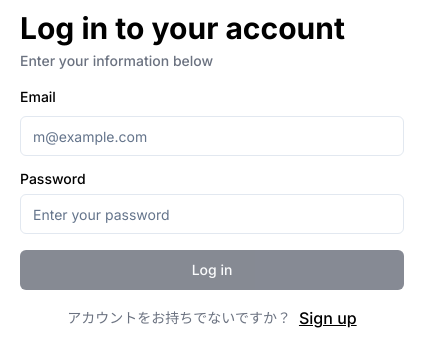
Test: LoginView › 入力後、ログインボタンが活性化すること
The width and height of the screenshot is (425, 345).
Step 1. Type "a" into the field labelled "Email" → (212, 136), box [20,116,404,156]
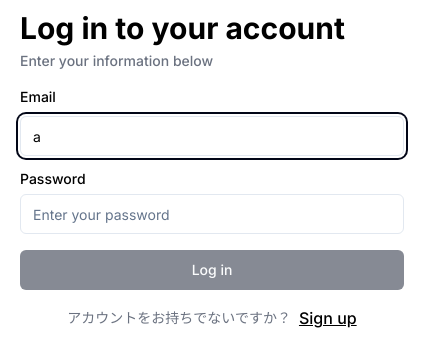
Step 2. Type "a" into the password field labelled "Password" → (212, 214), box [20,194,404,234]
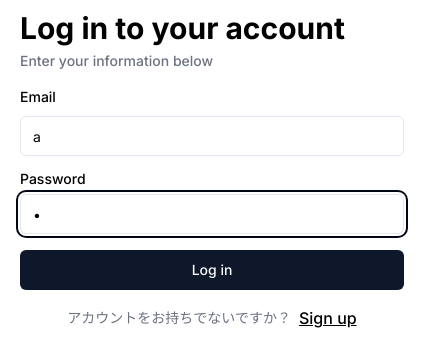
Check: the button "Log in" is enabled, box [20,250,404,290]
